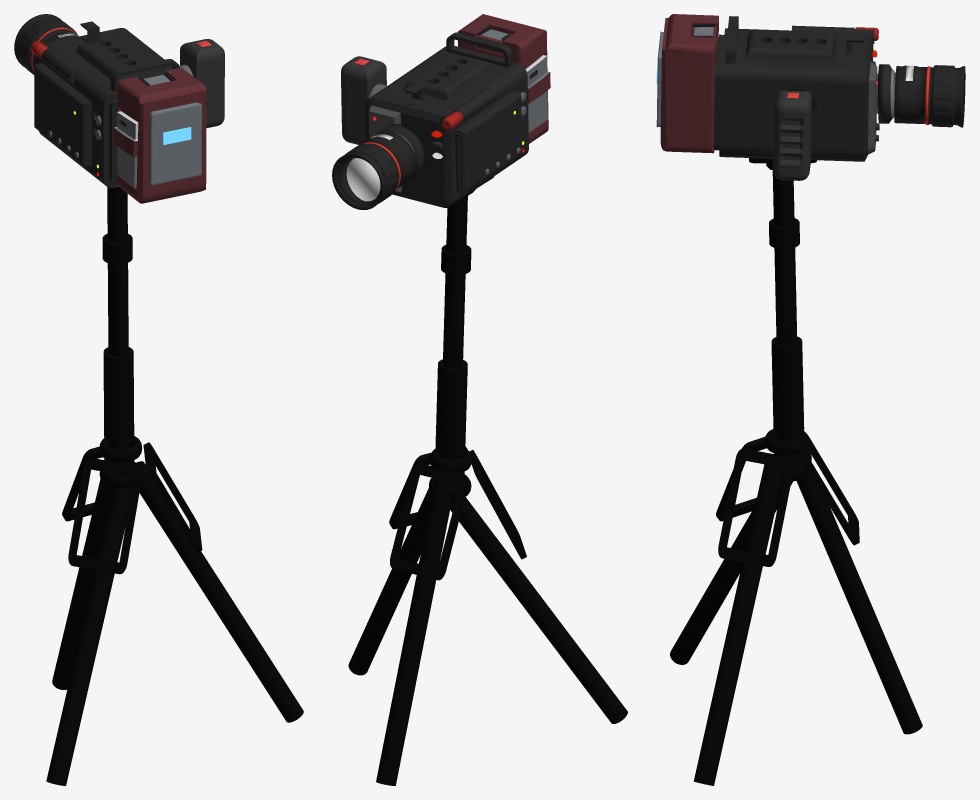
File: video_tripod.glb
The picture shows the model from 3 angles, left to right: view 1: azimuth 30°, elevation 25°; view 2: azimuth 150°, elevation 25°; view 3: azimuth 270°, elevation 25°; orthographic projection. The views are drawn at different scales.
Visible parts, largest first — view 1: Cube.007, Cube.006, Cylinder.010, Cylinder.011, Cylinder.012, Cylinder.017, Cube.008, Cylinder.009, Cube.004, Cube.003, Cylinder.039_Material.015_0, Cube.009 (+3 smaller); view 2: Cube.007, Cylinder.012, Cylinder.010, Cube.006, Cylinder.039_Material.015_0, Cylinder.011, Cylinder.017, Cube.009, Cylinder.009, Cube.004, Cube.008, lens (+5 smaller); view 3: Cube.007, Cube.006, Cylinder.011, Cylinder.012, Cylinder.039_Material.015_0, Cube.004, Cylinder.017, Cube.003, Cylinder.009, Cylinder.010, Cube.009, Cylinder.040 (+3 smaller).
Boxes of the visible parts, x1=… form: Cube.007: x1=34, y1=28, x2=179, y2=187; Cube.006: x1=114, y1=67, x2=206, y2=203; Cylinder.010: x1=46, y1=487, x2=132, y2=785; Cylinder.011: x1=134, y1=461, x2=303, y2=722; Cylinder.012: x1=52, y1=479, x2=113, y2=689; Cylinder.017: x1=107, y1=187, x2=129, y2=448; Cube.008: x1=68, y1=458, x2=142, y2=574; Cylinder.009: x1=103, y1=347, x2=134, y2=443; Cube.004: x1=180, y1=39, x2=224, y2=128; Cube.003: x1=143, y1=442, x2=202, y2=552; Cylinder.039_Material.015_0: x1=14, y1=14, x2=78, y2=74; Cube.009: x1=62, y1=446, x2=102, y2=521; Cube.007: x1=365, y1=32, x2=528, y2=207; Cylinder.012: x1=376, y1=479, x2=452, y2=785; Cylinder.010: x1=450, y1=497, x2=627, y2=723; Cube.006: x1=458, y1=14, x2=550, y2=143; Cylinder.039_Material.015_0: x1=332, y1=131, x2=416, y2=209; Cylinder.011: x1=348, y1=488, x2=432, y2=675; Cylinder.017: x1=440, y1=196, x2=467, y2=459; Cube.009: x1=390, y1=463, x2=468, y2=580; Cylinder.009: x1=435, y1=359, x2=467, y2=456; Cube.004: x1=341, y1=56, x2=386, y2=144; Cube.008: x1=469, y1=450, x2=526, y2=559; lens: x1=346, y1=158, x2=380, y2=201; Cube.007: x1=713, y1=16, x2=877, y2=161; Cube.006: x1=656, y1=14, x2=718, y2=153; Cylinder.011: x1=693, y1=464, x2=782, y2=785; Cylinder.012: x1=796, y1=459, x2=922, y2=734; Cylinder.039_Material.015_0: x1=894, y1=65, x2=965, y2=127; Cube.004: x1=773, y1=90, x2=811, y2=180; Cylinder.017: x1=772, y1=170, x2=799, y2=440; Cube.003: x1=718, y1=448, x2=793, y2=566; Cylinder.009: x1=771, y1=336, x2=804, y2=435; Cylinder.010: x1=670, y1=481, x2=792, y2=664; Cube.009: x1=800, y1=433, x2=859, y2=545; Cylinder.040: x1=876, y1=64, x2=895, y2=123.
Size of the model in its own units: 0.8632 by 2.13 by 0.8503.
